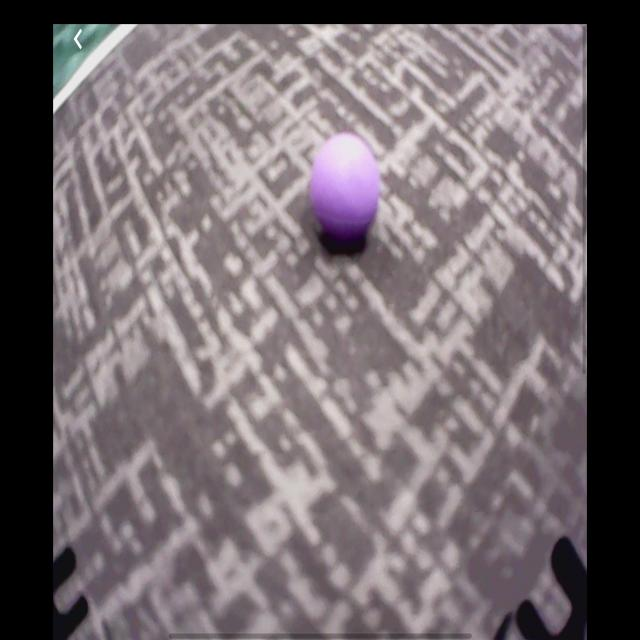ball: (311, 134, 378, 243)
